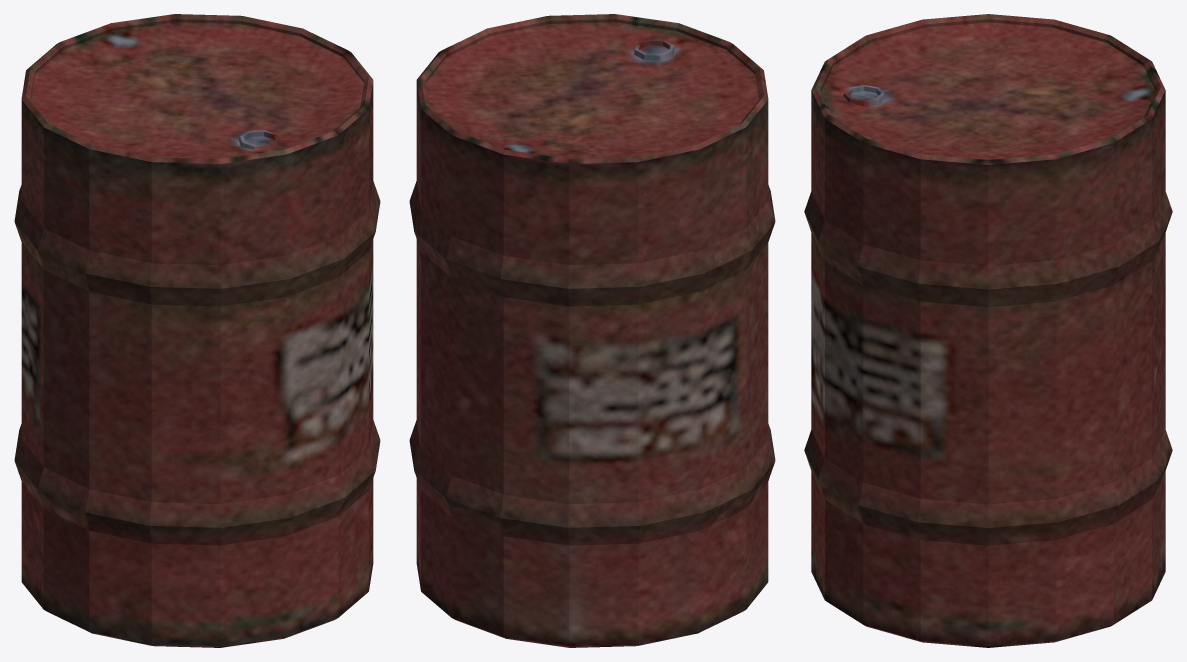
The picture shows the model from 3 angles, left to right: view 1: azimuth 30°, elevation 25°; view 2: azimuth 150°, elevation 25°; view 3: azimuth 270°, elevation 25°; orthographic projection.
Parts seen in each view (by area): view 1: metal_barrel_3; view 2: metal_barrel_3; view 3: metal_barrel_3.
Boxes of the visible parts, x1,y1,x2,y2 form: metal_barrel_3: (14,14,380,647); metal_barrel_3: (409,14,775,647); metal_barrel_3: (804,14,1172,647).
Size of the model in its own units: 0.7488 by 1.09 by 0.7488.
1 material, 1 textured.
